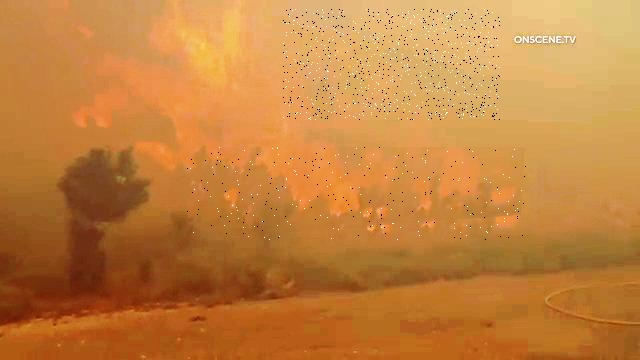fire: (187, 147, 526, 240)
smoke: (283, 9, 500, 120)
